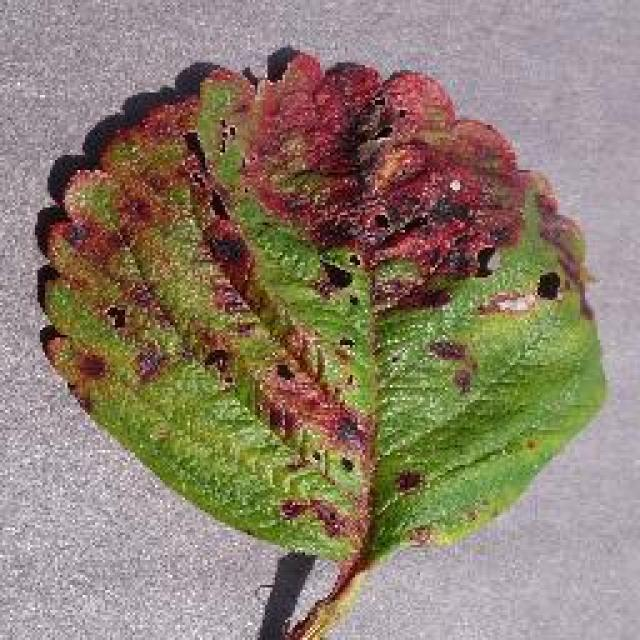Strawberry___Leaf_scorch: (51, 39, 566, 429)
